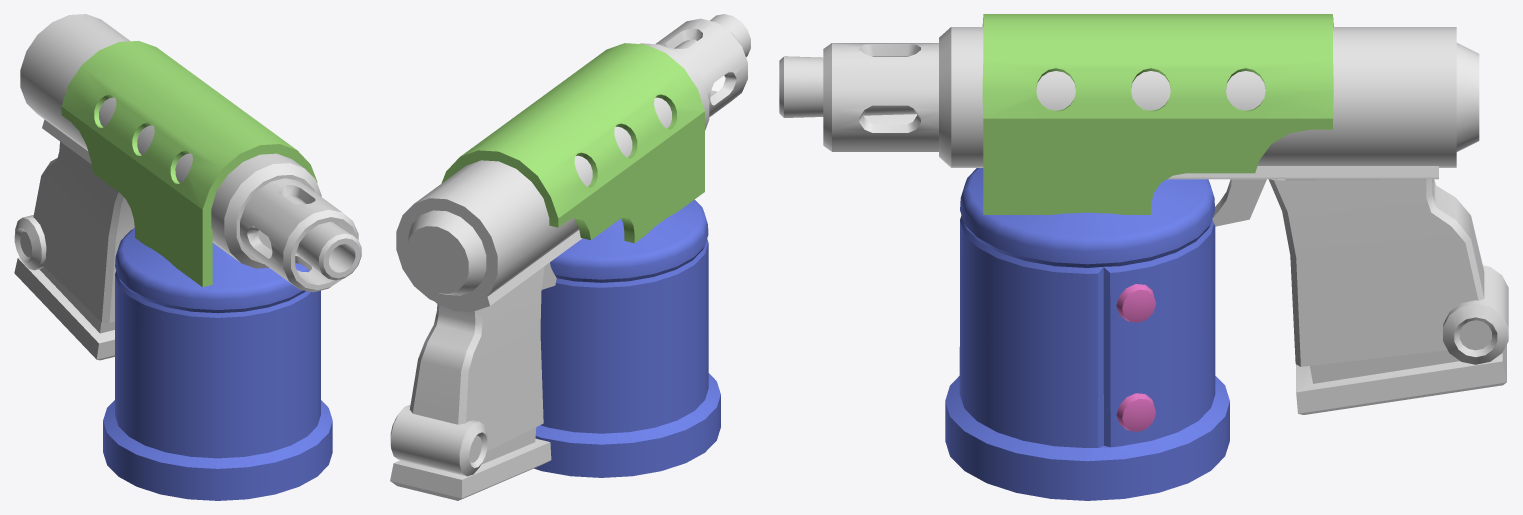
File: 副武器奶油喷枪.fbx
The picture shows the model from 3 angles, left to right: view 1: azimuth 30°, elevation 25°; view 2: azimuth 150°, elevation 25°; view 3: azimuth 270°, elevation 25°; orthographic projection. The views are drawn at different scales.
Visible parts, largest first — view 1: GasBurner_mesh; view 2: GasBurner_mesh; view 3: GasBurner_mesh.
Part boxes in pixels (x1,y1,x2,y2): GasBurner_mesh: [14, 14, 361, 500]; GasBurner_mesh: [390, 14, 750, 500]; GasBurner_mesh: [779, 14, 1508, 500].
Bounding box in the file's own units: 19.3 × 31.71 × 49.41.
